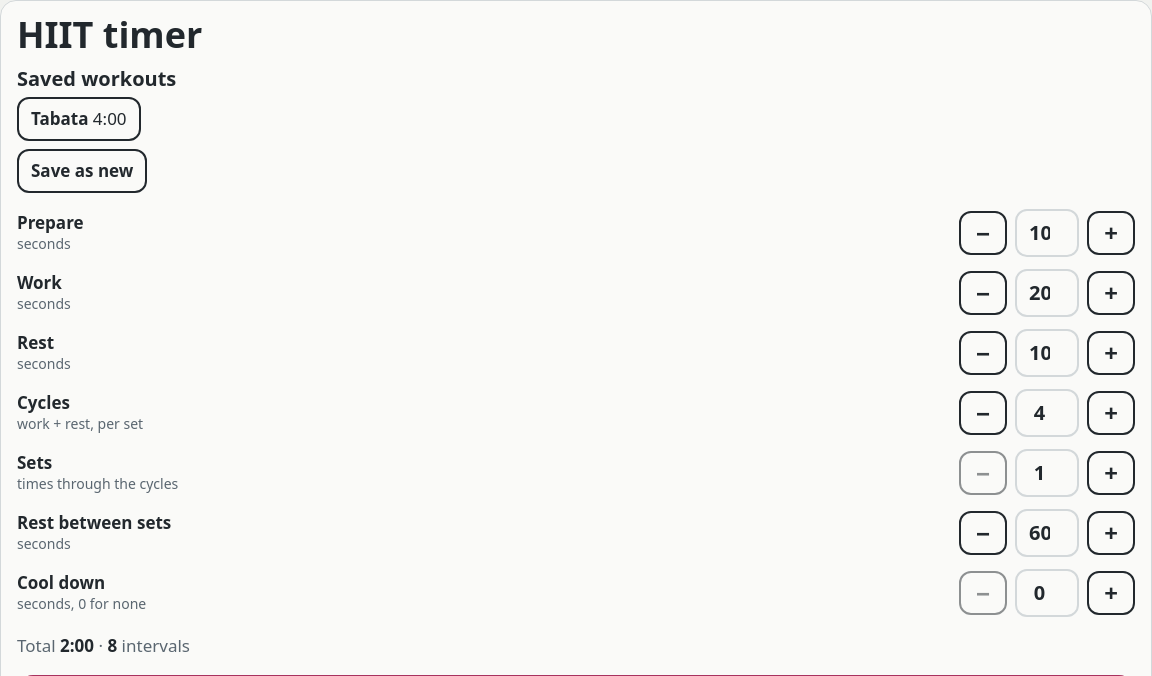
blurring an empty field restores the same default that Start would use
Step 1. Clear the number field labelled "Cycles" → (1047, 413), box [1015, 389, 1079, 437]
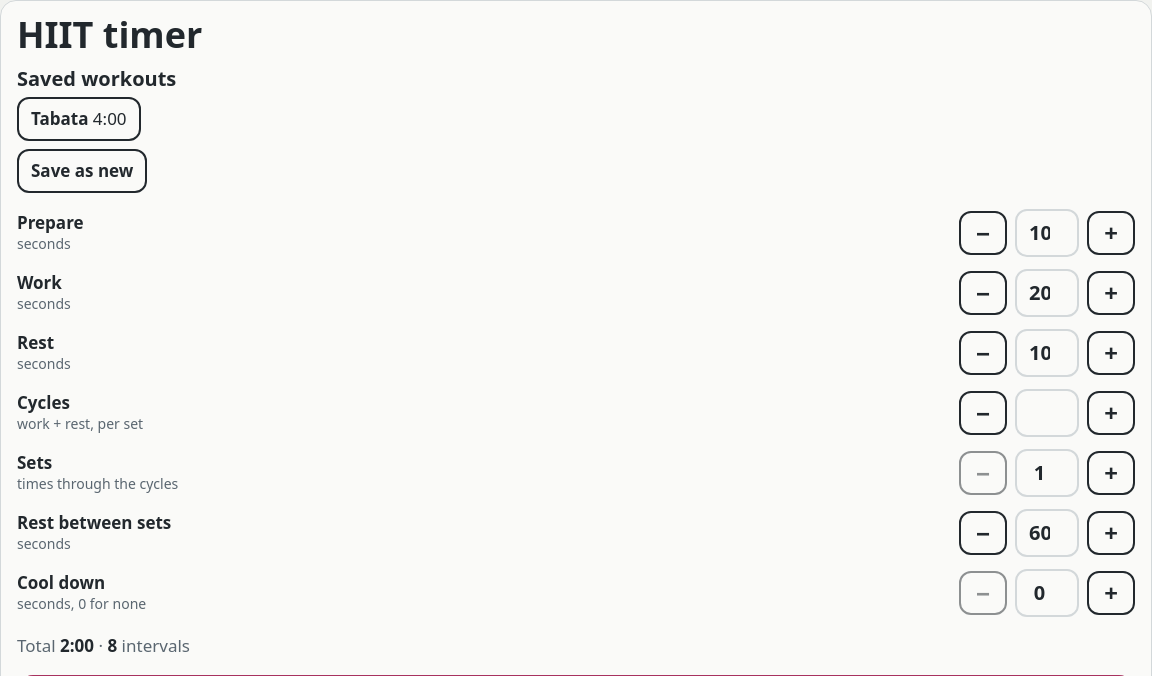
Check: the text "Total 2:00 · 8 intervals" is shown, box [17, 634, 190, 657]
Step 2. Leave the number field labelled "Cycles", box [1015, 389, 1079, 437]
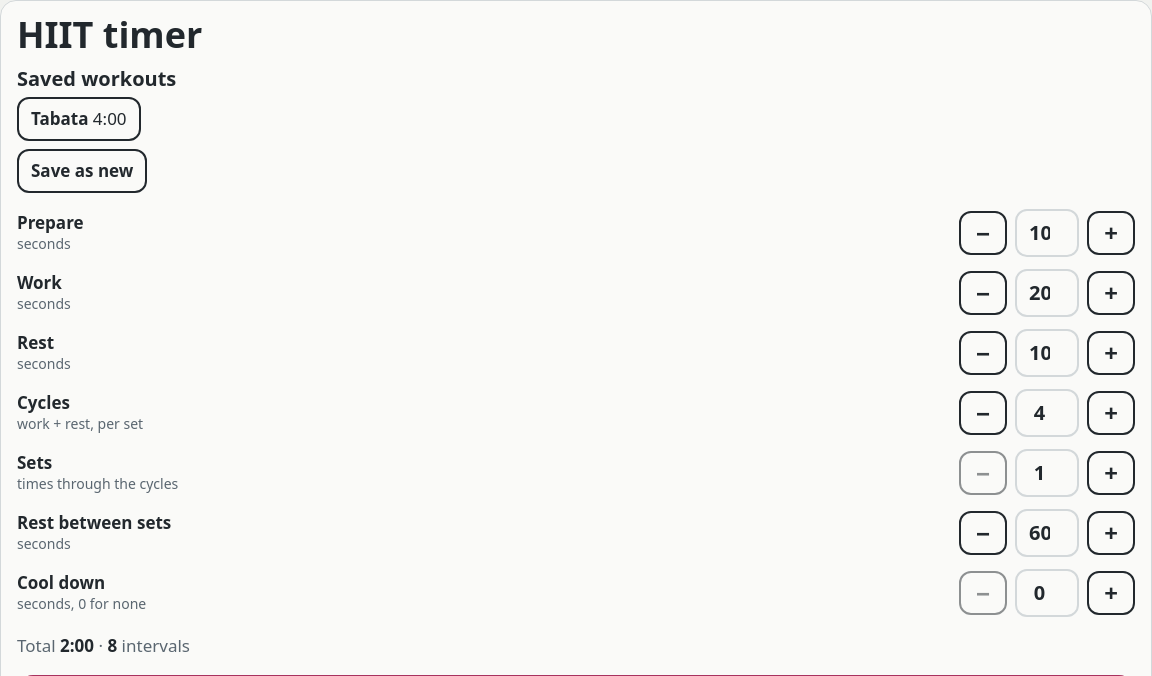
Check: the number field labelled "Cycles" holds "4", box [1015, 389, 1079, 437]
